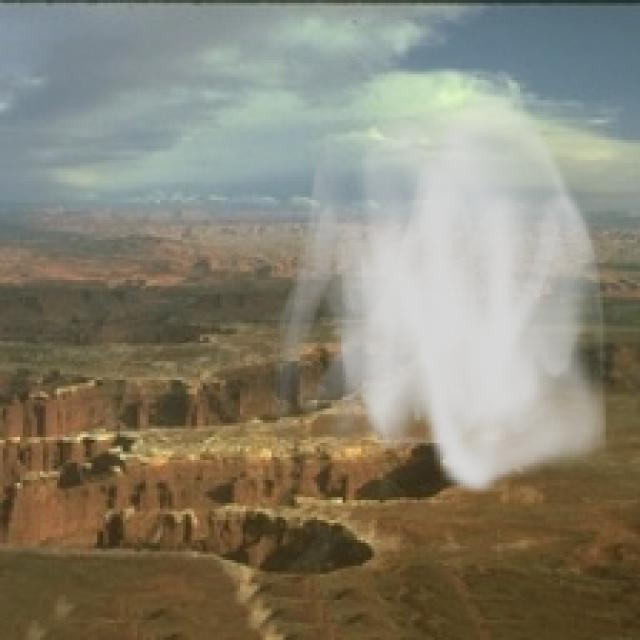smoke: (269, 77, 617, 497)
